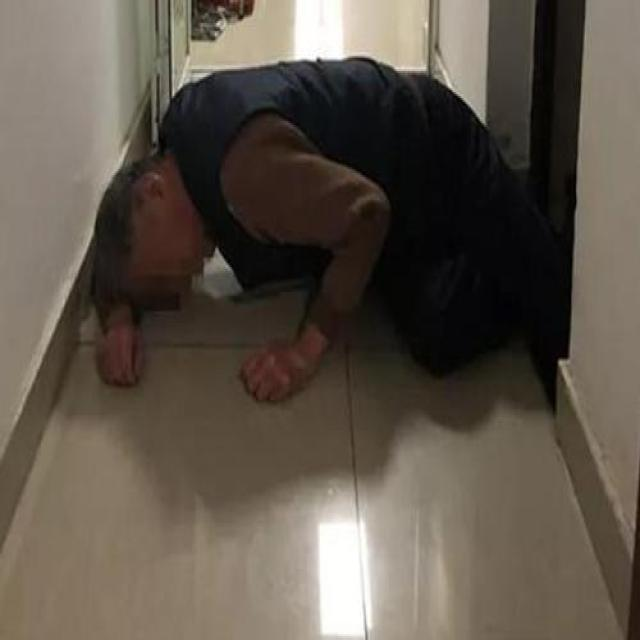down: (73, 38, 575, 444)
